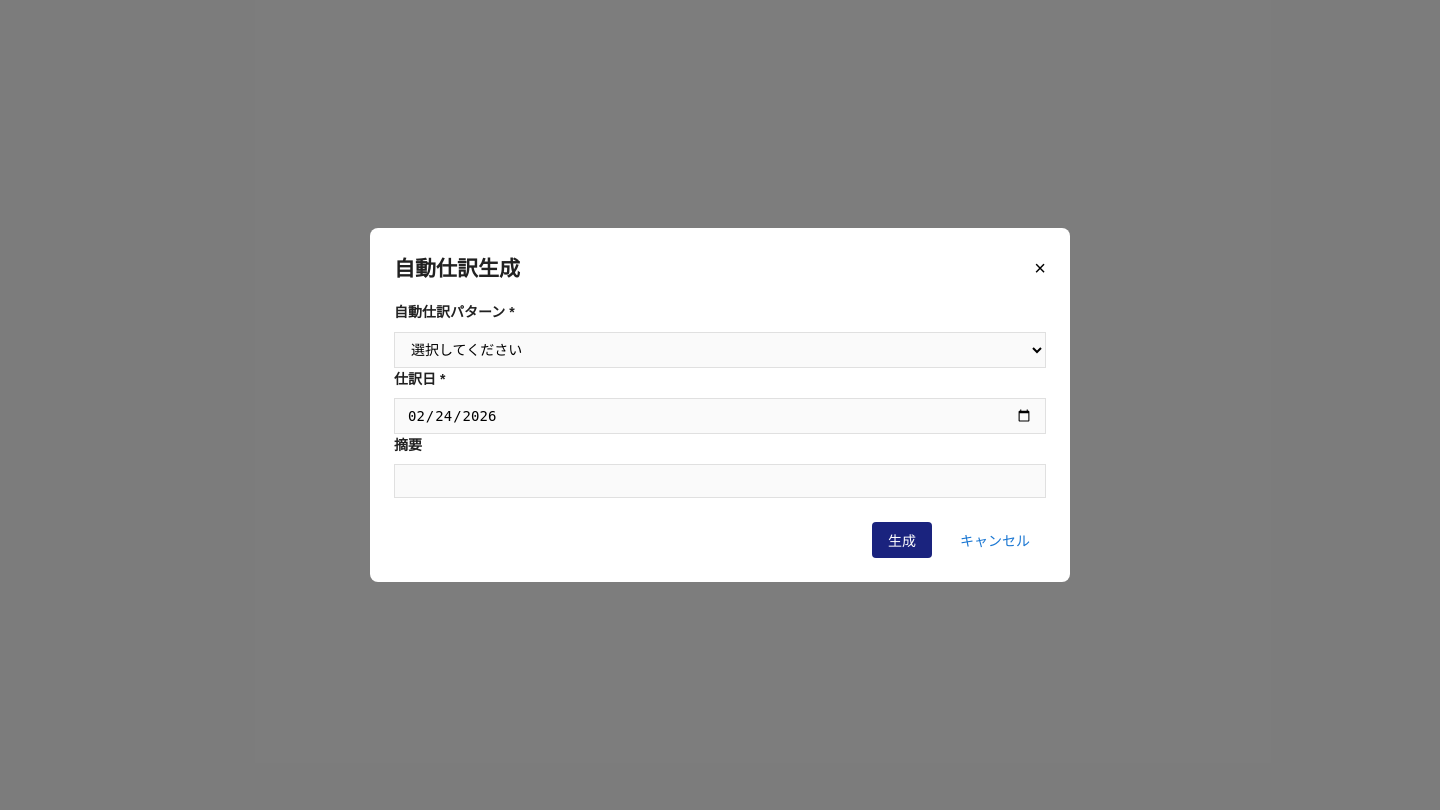
AutoJournalGenerateDialog › パターン未選択で生成すると submit エラーを表示する
Expected: the dropdown labelled "自動仕訳パターン *" is shown, [394, 332, 1046, 368]
Click the button "生成".
click(902, 540)  # box [872, 522, 932, 558]
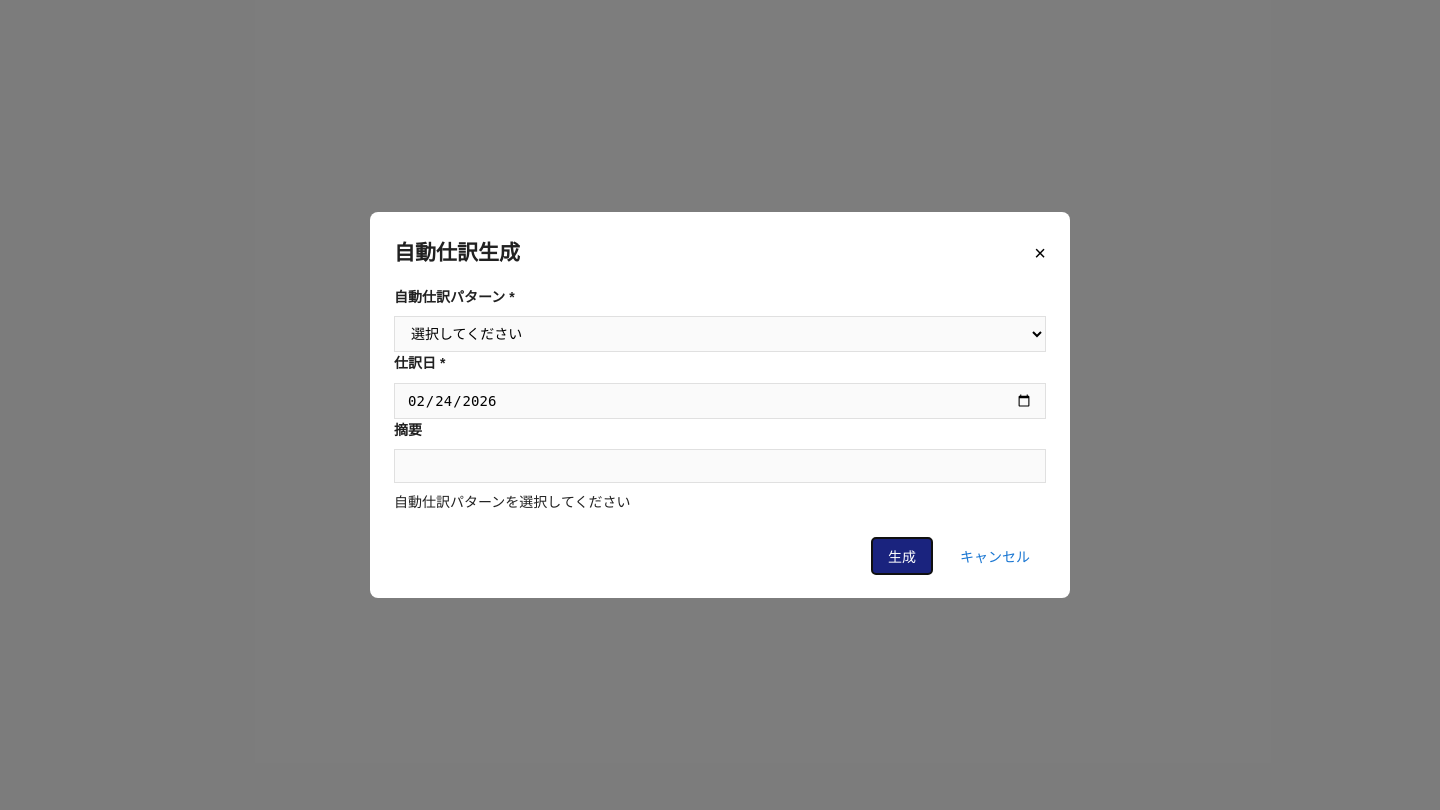
Now the text "自動仕訳パターンを選択してください" is shown, box [394, 494, 630, 510]
